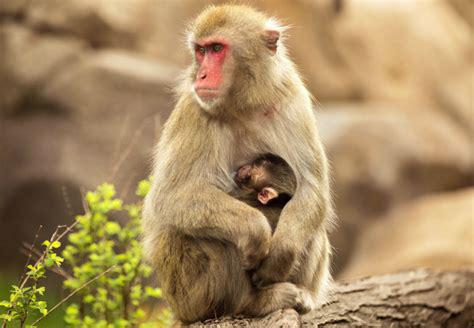monkey: (144, 7, 331, 322)
